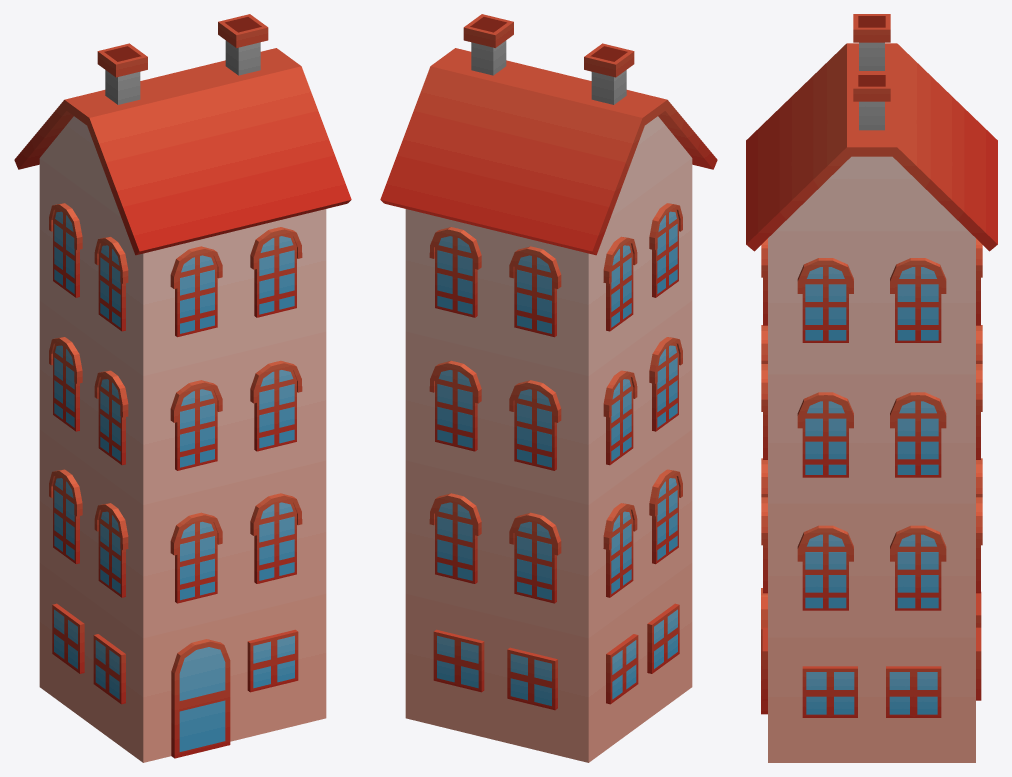
File: village_house_2.glb
3 renders of one model, left to right at view 1: azimuth 30°, elevation 25°; view 2: azimuth 150°, elevation 25°; view 3: azimuth 270°, elevation 25°, orthographic.
Parts seen in each view (by area): view 1: village_house_2; view 2: village_house_2; view 3: village_house_2.
Boxes of the visible parts, left/top/right/bottom form: village_house_2: left=14, top=14, right=351, bottom=762; village_house_2: left=380, top=14, right=717, bottom=762; village_house_2: left=746, top=14, right=997, bottom=762.
Bounding box in the file's own units: 1.81 × 5.4 × 1.85.
1 material, 1 textured.
